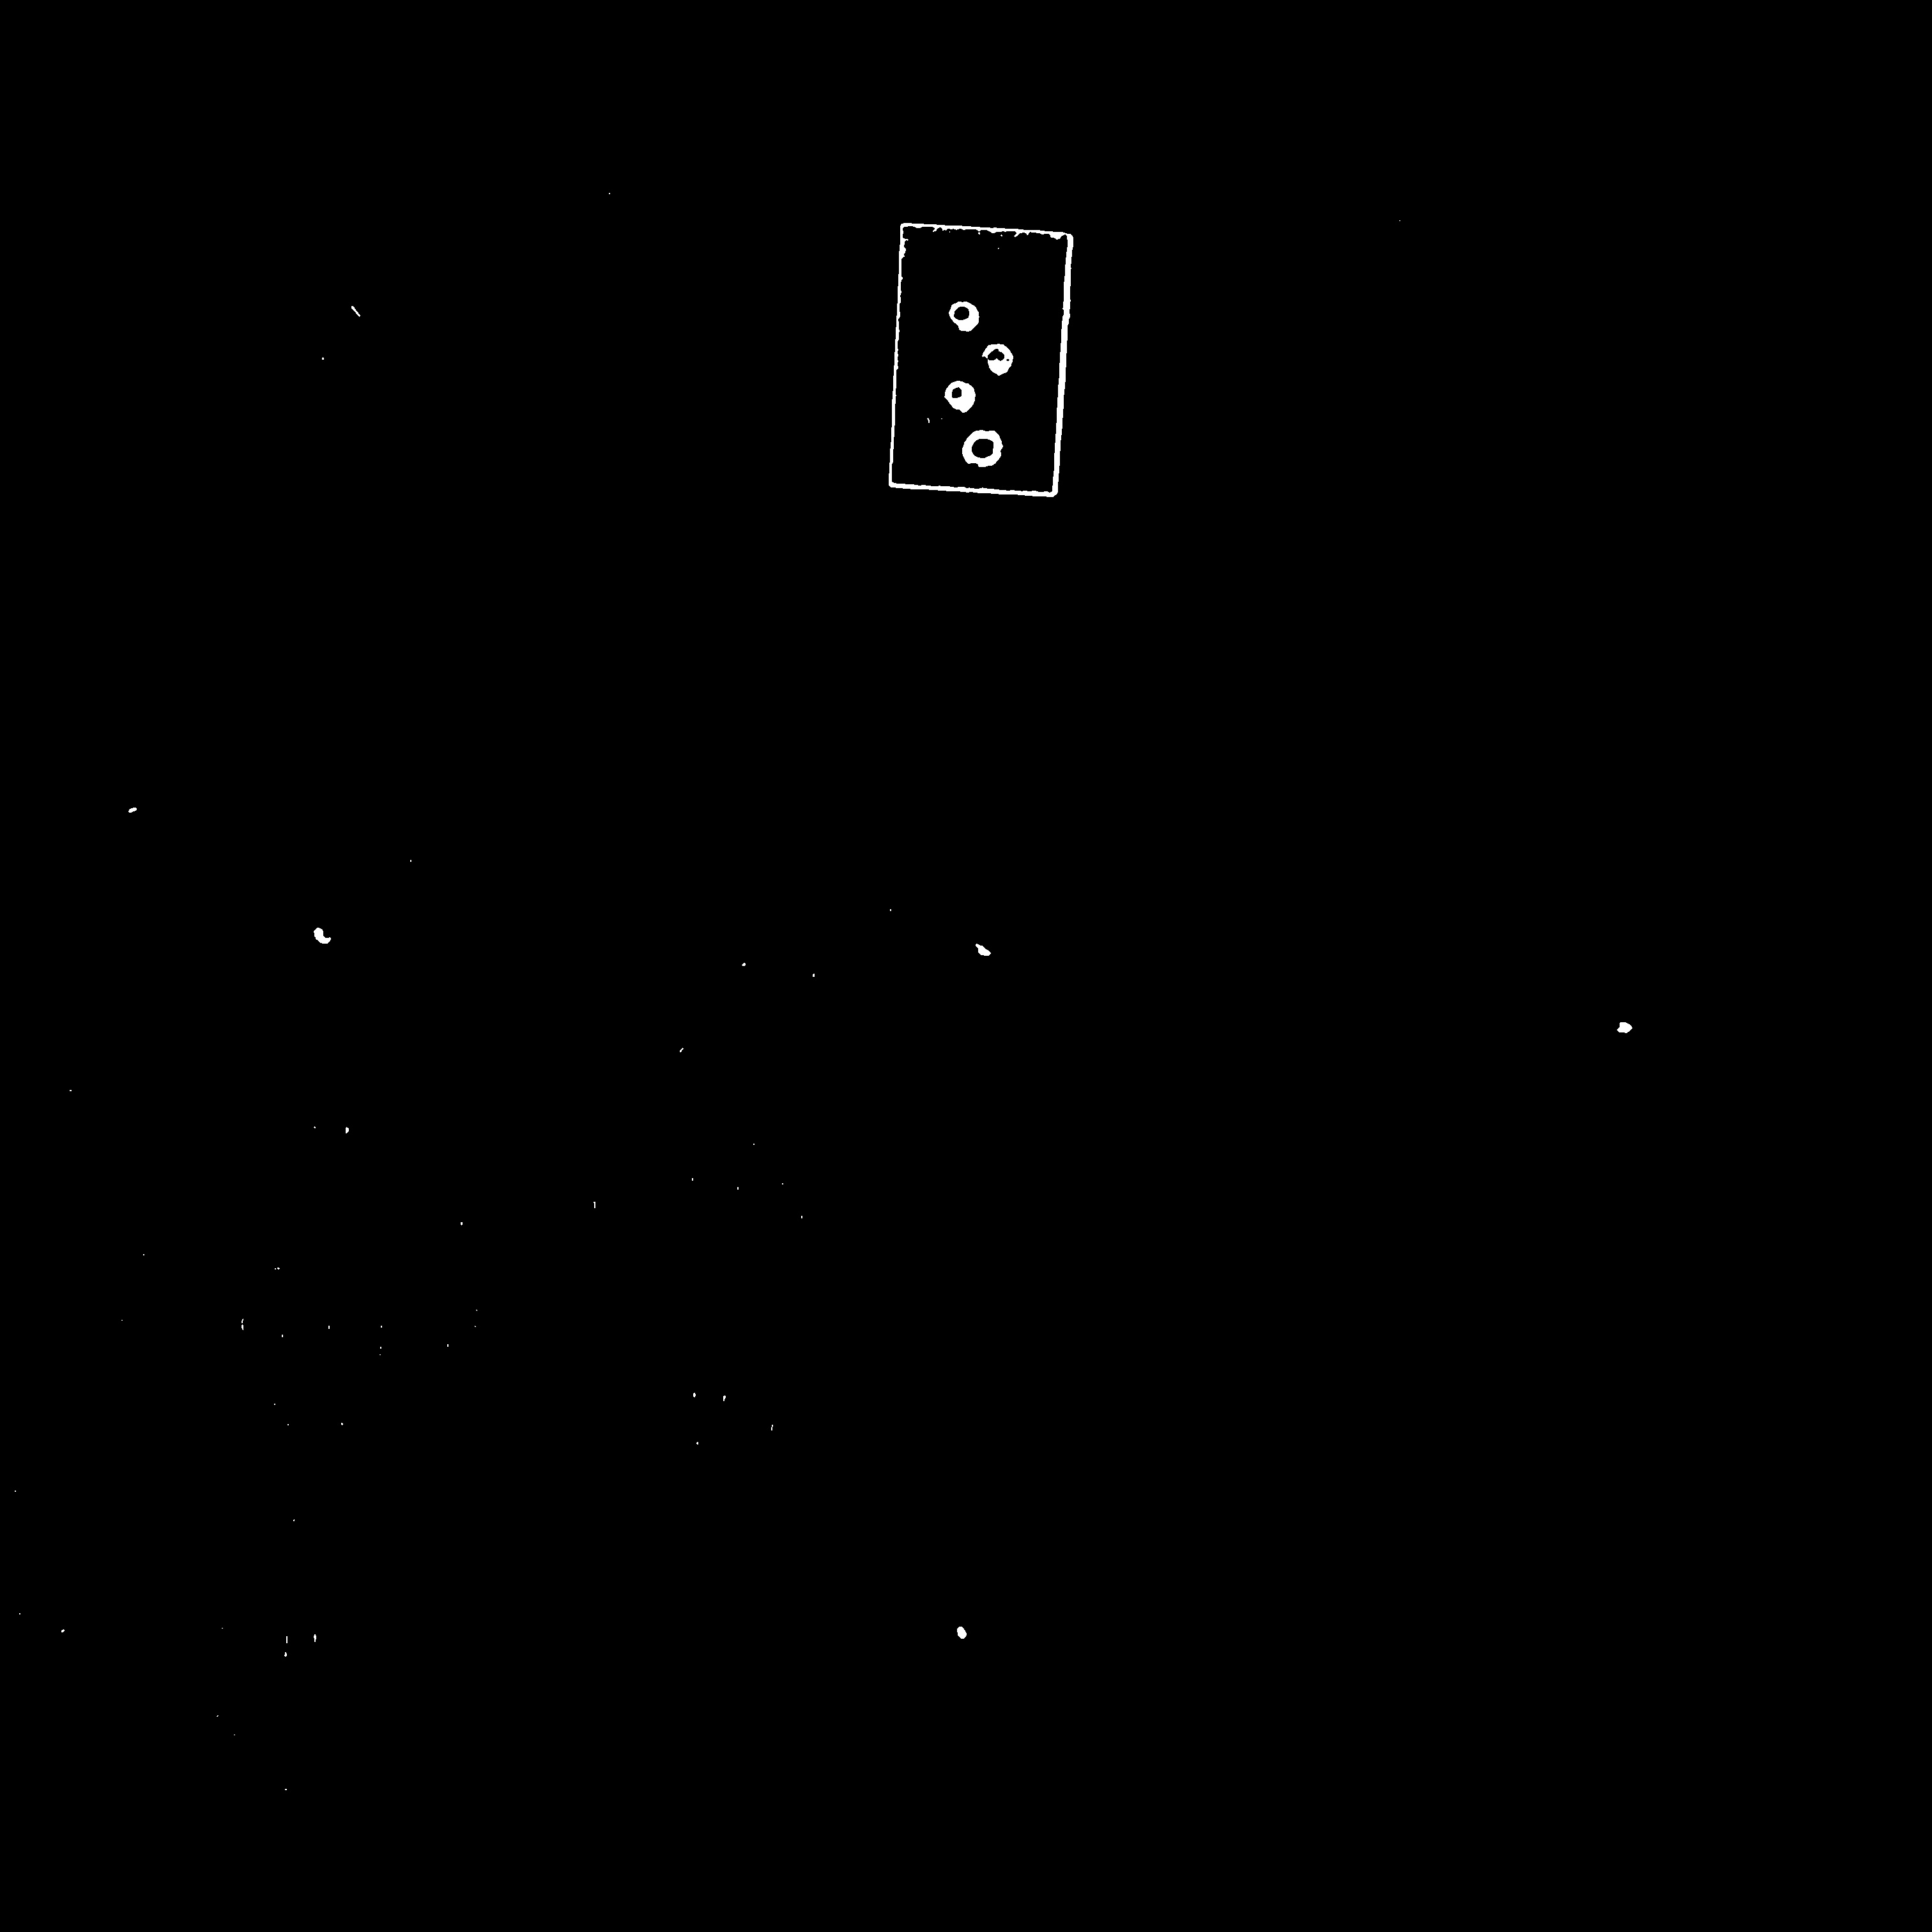o: (925, 284, 1039, 422)
